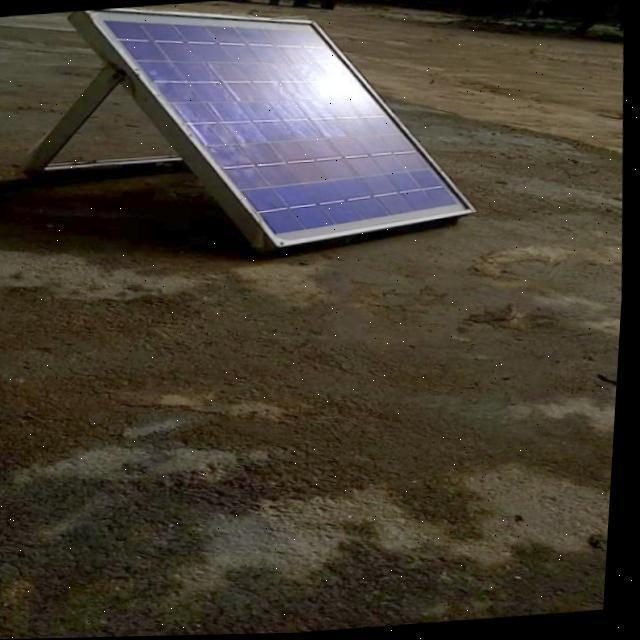Normal Solar Panel: (57, 0, 487, 264)
